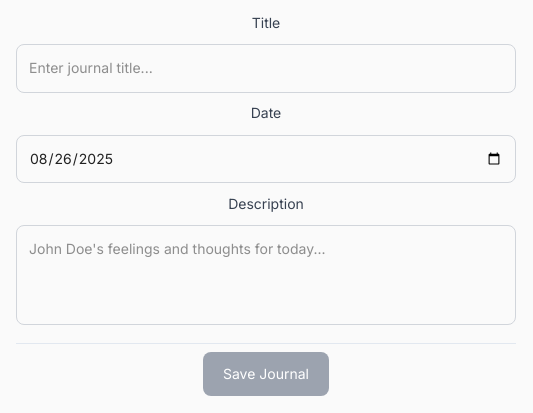
JournalEntryForm › enables save button when form is valid
Expected: the button "Save Journal" is disabled, [203,352,329,396]
Note: Only title filled - still disabled
Type "Test Title" into the field labelled "Title". click: (266, 69)
box: [16,44,516,93]
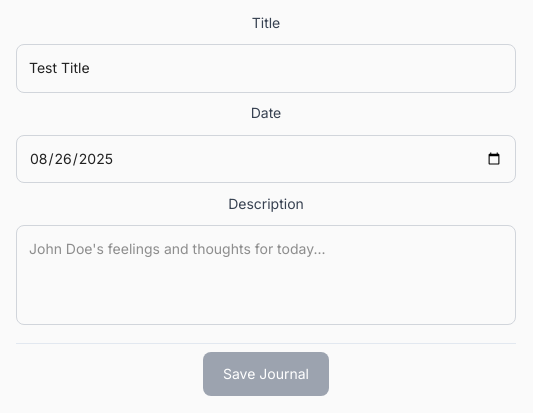
Expected: the button "Save Journal" is disabled, [203,352,329,396]
Note: Only description filled - still disabled
Clear the field labelled "Title". click: (266, 69)
box: [16,44,516,93]
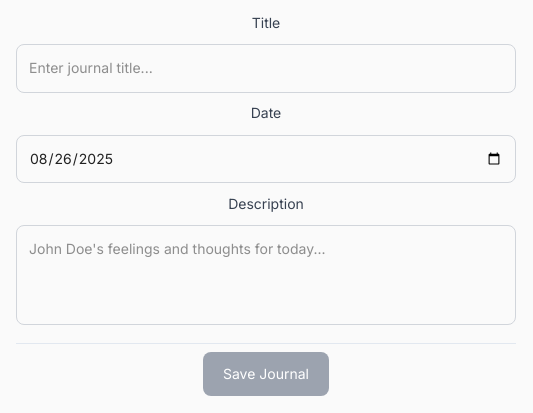
Type "Test description" into the text box labelled "Description". click: (266, 275)
box: [16,225,516,325]
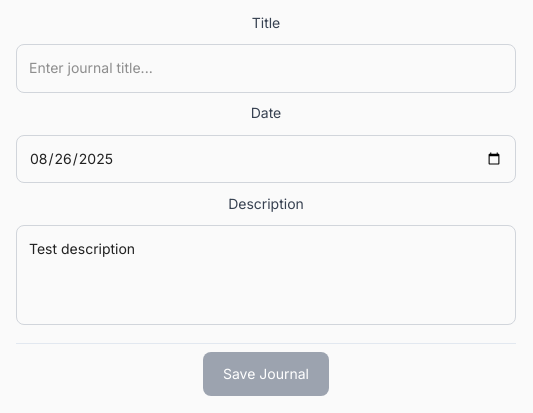
Expected: the button "Save Journal" is disabled, [203,352,329,396]
Note: Both filled - enabled
Type "Test Title" into the field labelled "Title". click: (266, 69)
box: [16,44,516,93]
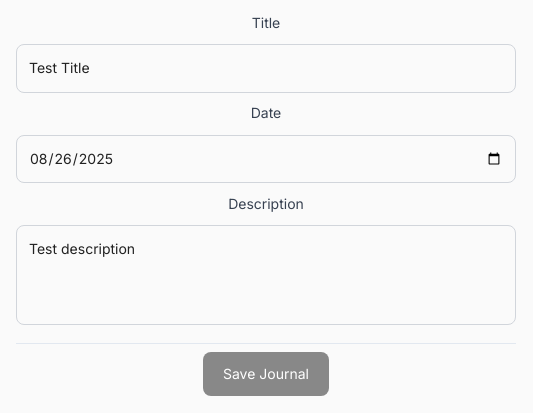
Result: the button "Save Journal" is enabled at [203,352,329,396]
